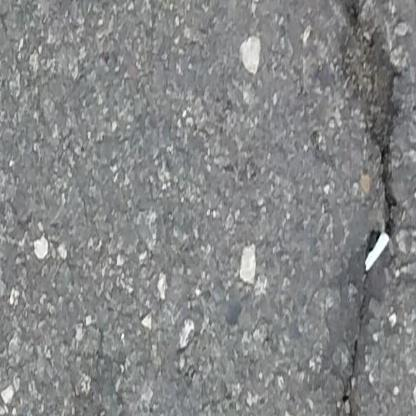Cracks: (312, 0, 408, 416)
